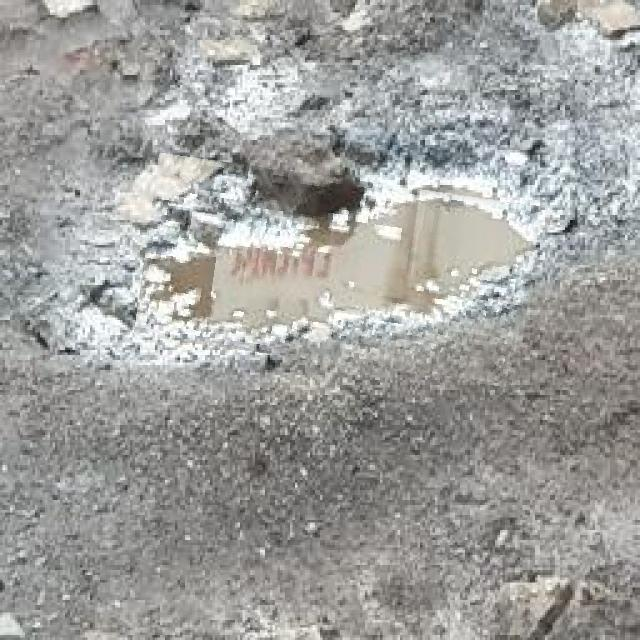puddle: (140, 167, 536, 377)
